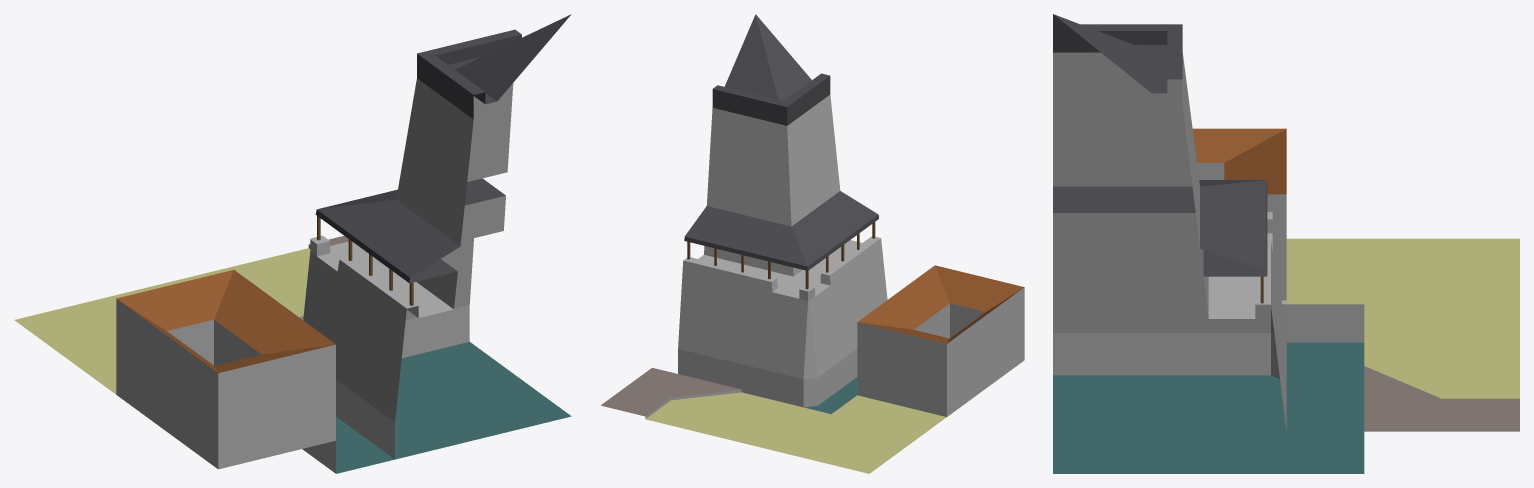
File: wrc2.obj
3 renders of one model, left to right at view 1: azimuth 30°, elevation 25°; view 2: azimuth 150°, elevation 25°; view 3: azimuth 270°, elevation 25°, orthographic. The views are drawn at different scales.
Visible parts, largest first — view 1: wrc2; view 2: wrc2; view 3: wrc2.
Part boxes in pixels (x1,y1,x2,y2): wrc2: [14, 14, 571, 473]; wrc2: [601, 14, 1024, 473]; wrc2: [1053, 14, 1519, 473].
Bounding box in the file's own units: 30 × 32.63 × 30.
